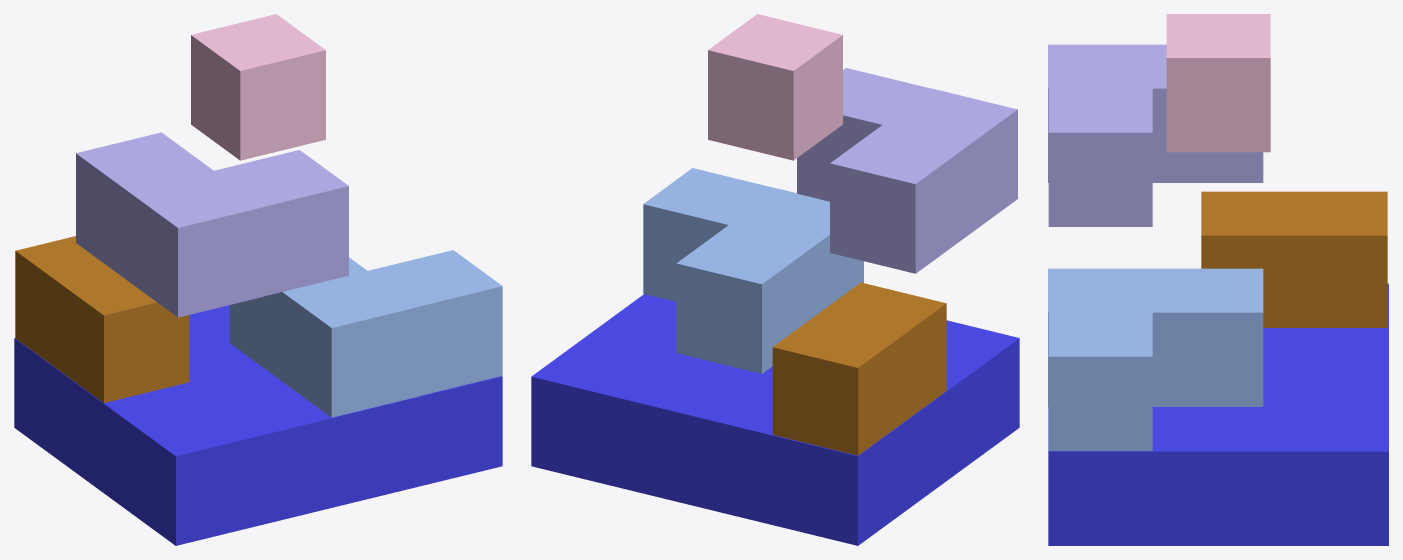
3 views of the same model, side by side, from view 1: azimuth 30°, elevation 25°; view 2: azimuth 150°, elevation 25°; view 3: azimuth 270°, elevation 25° (orthographic). The views are drawn at different scales.
Visible parts, largest first — view 1: Cube.001; view 2: Cube.001; view 3: Cube.001.
Boxes of the visible parts, x1=… form: Cube.001: x1=14, y1=14, x2=502, y2=545; Cube.001: x1=531, y1=14, x2=1019, y2=545; Cube.001: x1=1048, y1=14, x2=1388, y2=545.
Size of the model in its own units: 7.64 by 9.03 by 6.55.
